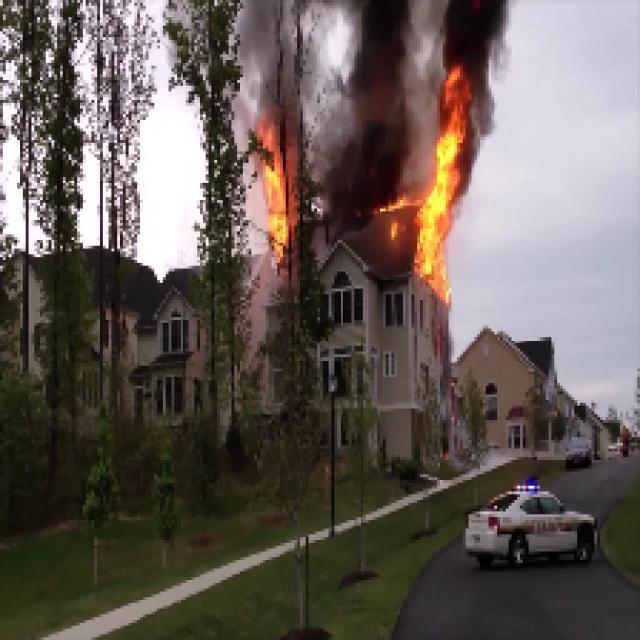Fire: (414, 68, 470, 306), (254, 117, 298, 272)
Smoke: (241, 1, 516, 64), (306, 67, 406, 192)
